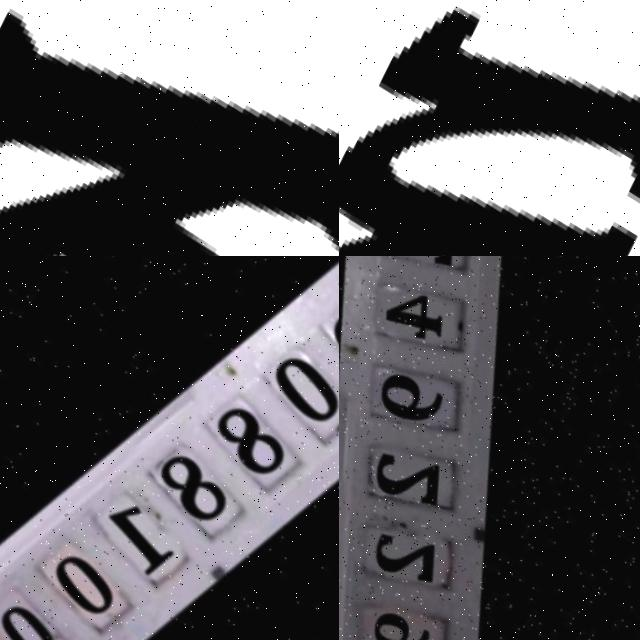0: (11, 517, 140, 638), (232, 311, 339, 443), (0, 570, 78, 640)
1: (62, 466, 198, 593)
2: (339, 402, 467, 533), (339, 483, 463, 612), (347, 256, 486, 294)
4: (339, 256, 479, 371)
8: (118, 414, 254, 543), (178, 369, 309, 494)
9: (339, 322, 472, 453), (339, 563, 455, 640), (293, 266, 339, 396)
K: (0, 0, 339, 256)
M: (339, 0, 640, 256)
